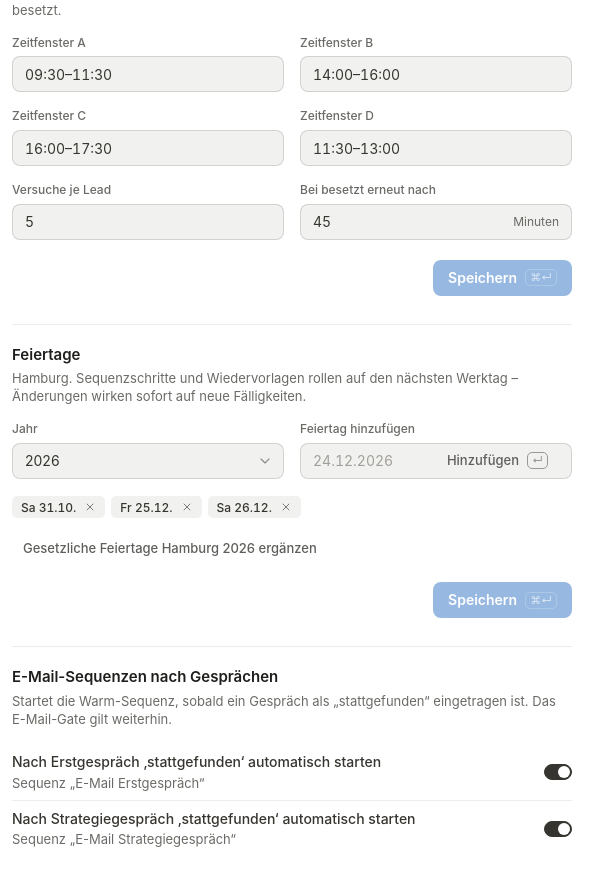
Test: Ziele › Feiertag: ungültige Eingabe und Dublette zeigen einen Hinweis, Entfernen nimmt den Chip raus
(page scrolled)
Type "irgendwann" into the field labelled "Feiertag hinzufügen".
click(370, 461); type("irgendwann")  # box [313,444,428,478]
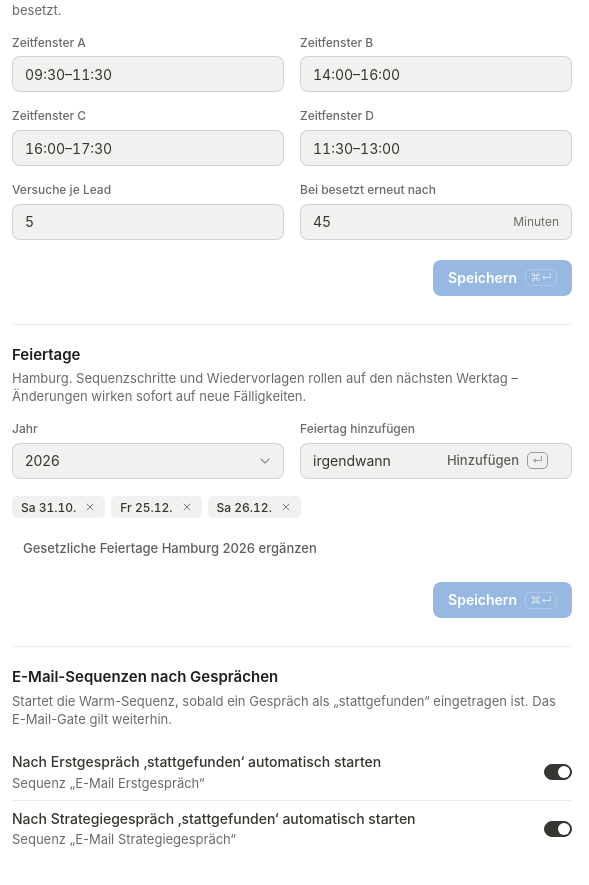
Press Enter in the field labelled "Feiertag hinzufügen", box [313,444,428,478]
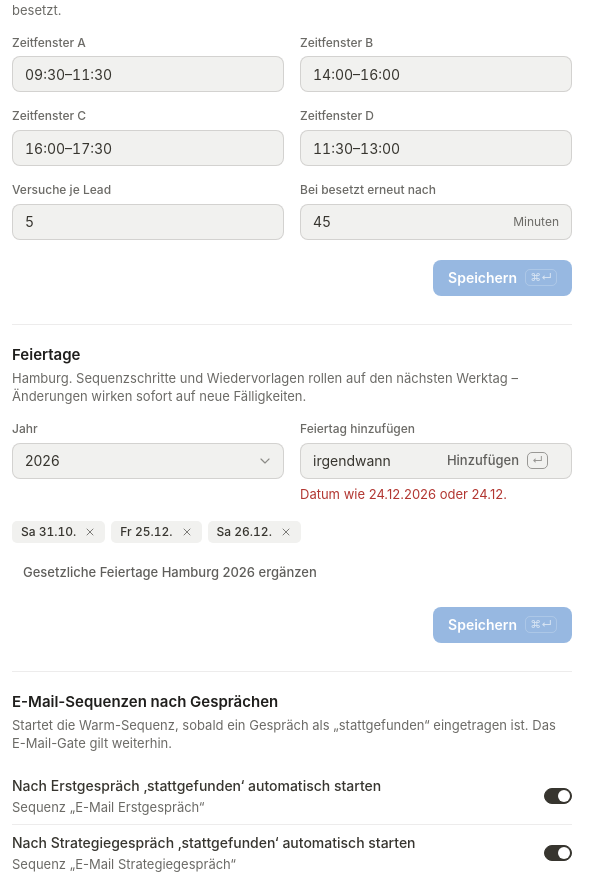
Expected: the text "Datum wie 24.12.2026 oder 24.12." is shown, [300,486,507,502]
Replace the text in the field labelled "Feiertag hinzufügen" with "31.10.2026" at (370, 461), box [313,444,428,478]
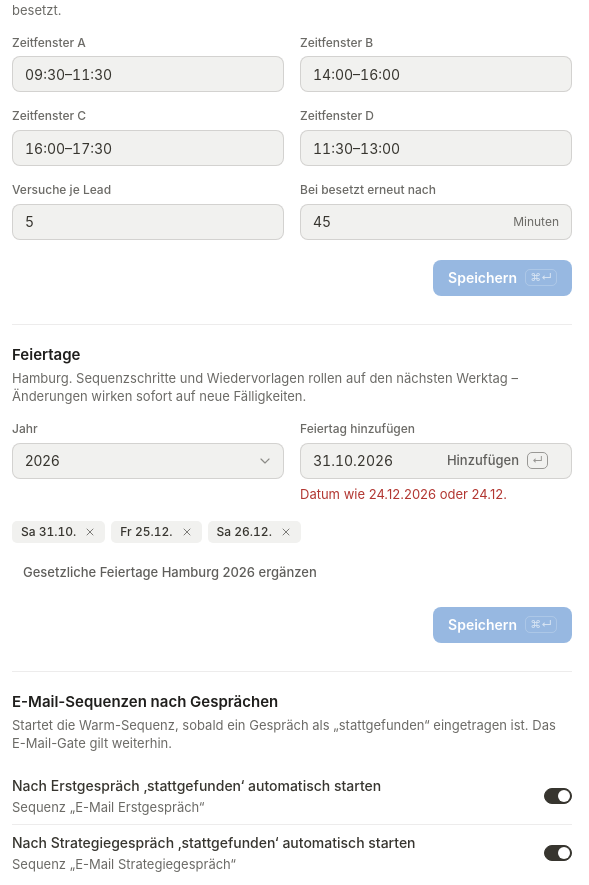
Press Enter in the field labelled "Feiertag hinzufügen", box [313,444,428,478]
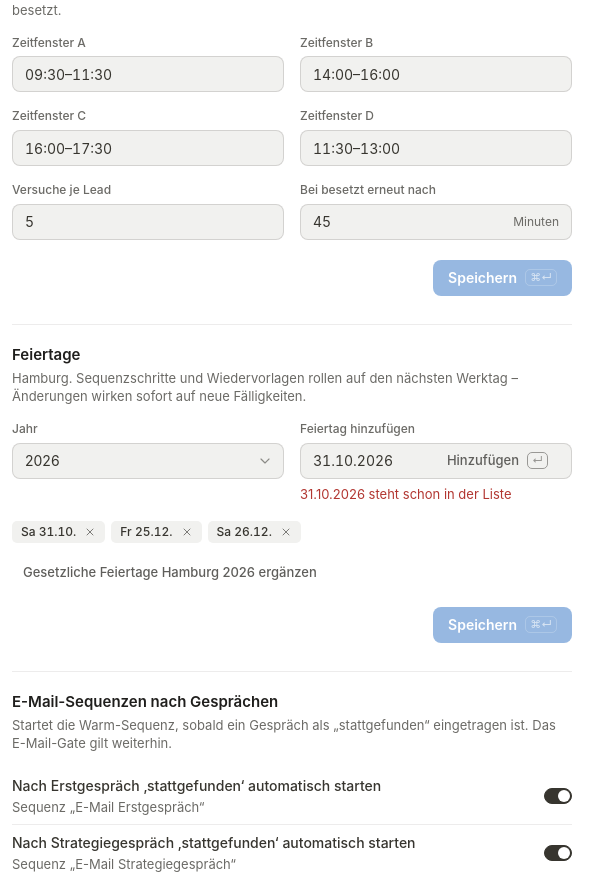
Expected: the number of list items is 3, [12,519,105,543]; [111,519,202,543]; [208,519,301,543]
Expected: the text "31.10.2026 steht schon in der Liste" is shown, [300,486,512,502]
Click the button named "Entfernen" next to "Sa 31.10.".
click(90, 532)  # box [84,526,96,538]
(page scrolled)
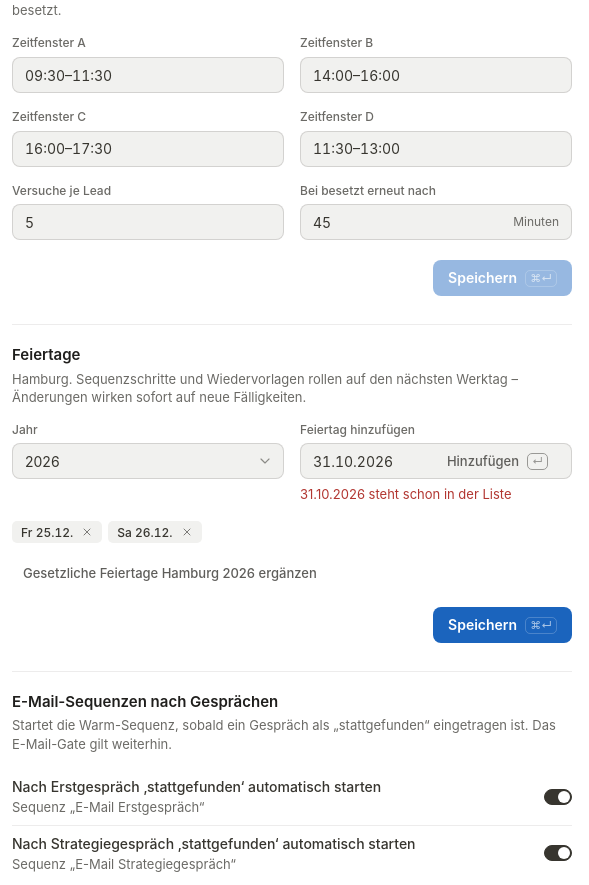
Expected: the number of list items is 2, [12,520,102,543]; [108,520,202,543]
